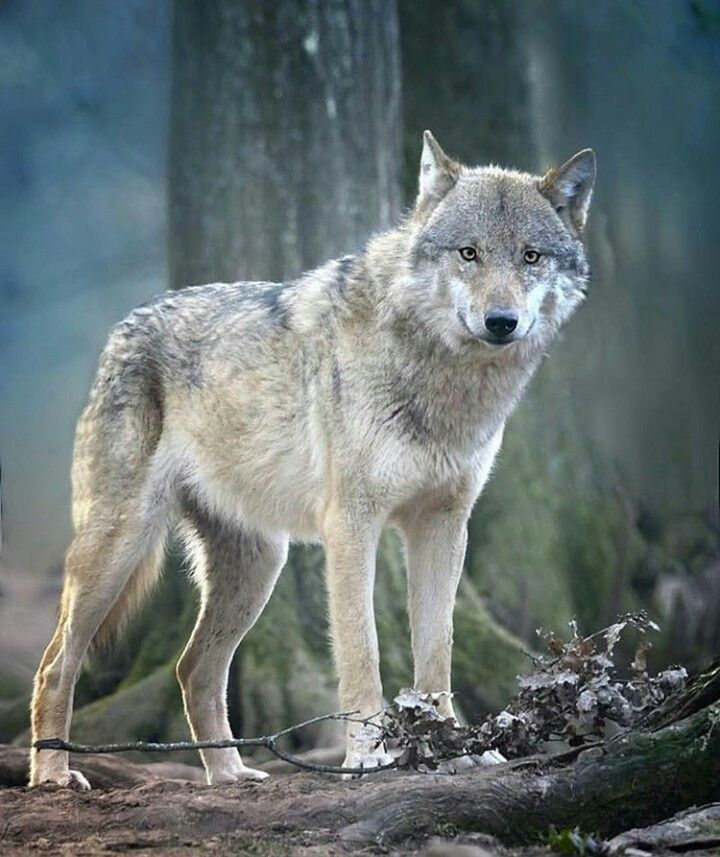Lobo: (57, 117, 614, 774)
